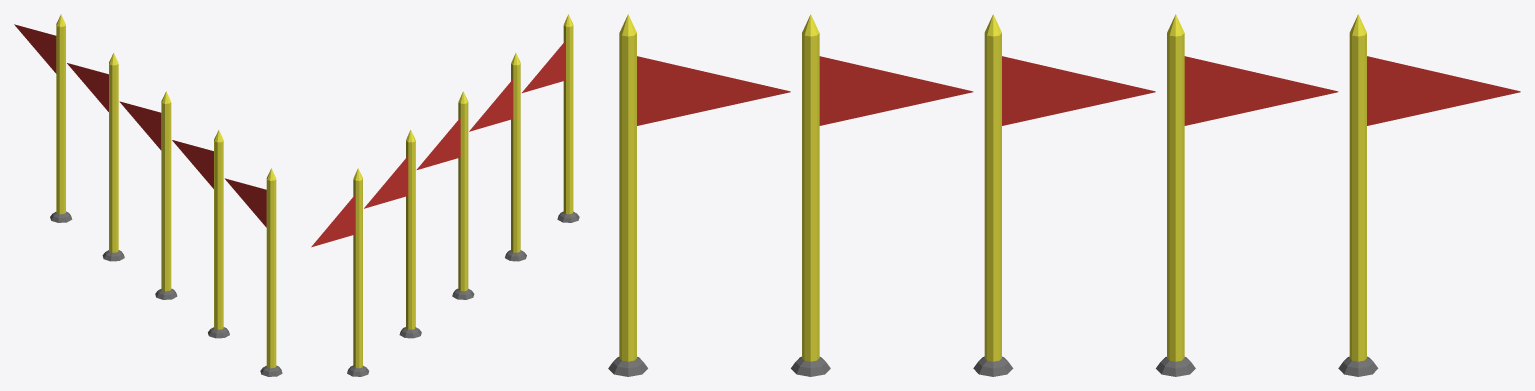
The model's file is флаги красные.fbx.
3 views of the same model, side by side, from view 1: azimuth 30°, elevation 25°; view 2: azimuth 150°, elevation 25°; view 3: azimuth 270°, elevation 25° (orthographic). The views are drawn at different scales.
Parts seen in each view (by area): view 1: Сфера; view 2: Сфера; view 3: Сфера.
Part boxes in pixels (left/top/right/bottom): Сфера: left=14, top=14, right=282, bottom=376; Сфера: left=311, top=14, right=579, bottom=376; Сфера: left=608, top=14, right=1520, bottom=376.
Bounding box in the file's own units: 97.38 × 949 × 2215.
